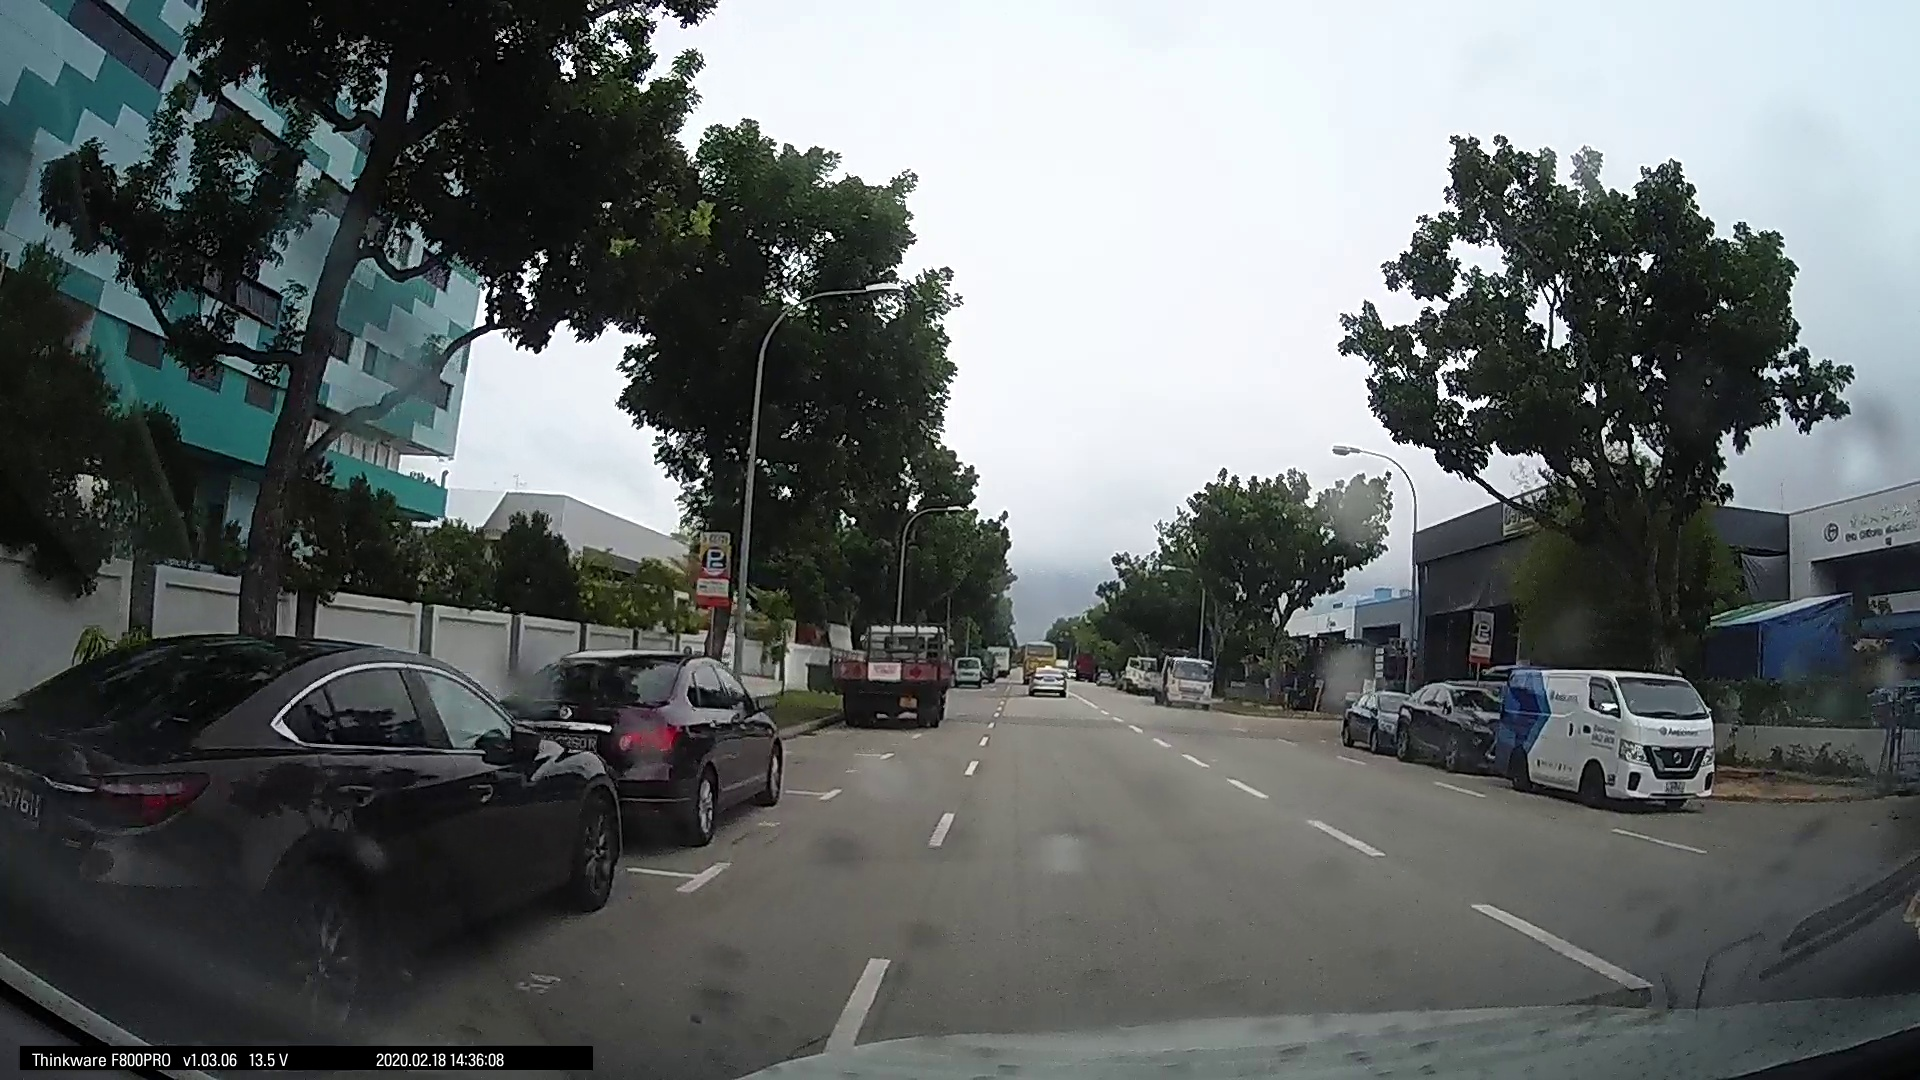Heavy Vehicle: (837, 618, 951, 727)
Light Vehicle: (4, 628, 611, 990), (525, 641, 790, 845), (1501, 657, 1716, 814), (1399, 678, 1502, 771), (1337, 682, 1416, 756), (1151, 649, 1211, 705), (1022, 655, 1068, 696), (949, 647, 986, 684)
